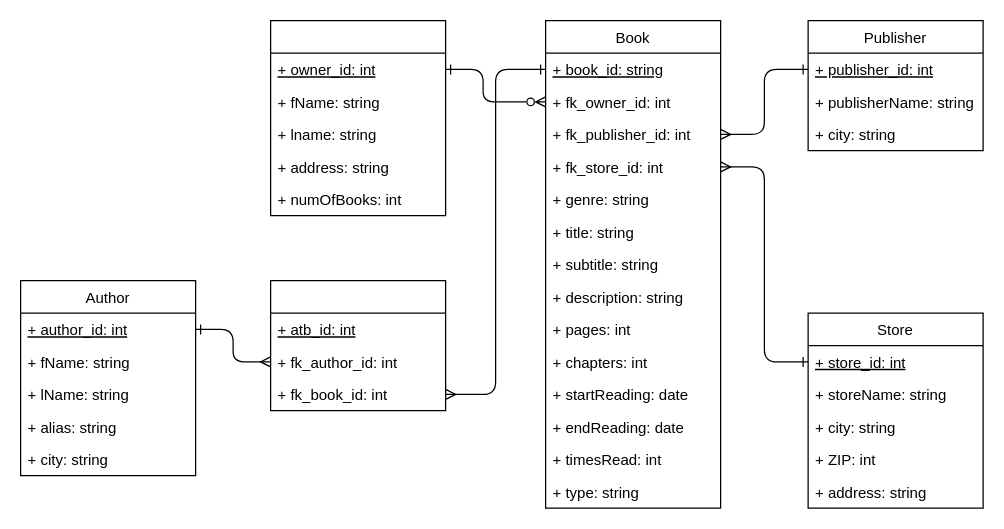
The diagram is 1004 pixels wide and 529 high, and some of its shapes have lost their labels. Here are the shapes that lost their labels. From the top down, the box of each, then its label:
(269, 19, 446, 216): Book owner
(269, 279, 446, 411): AuthorToBook
